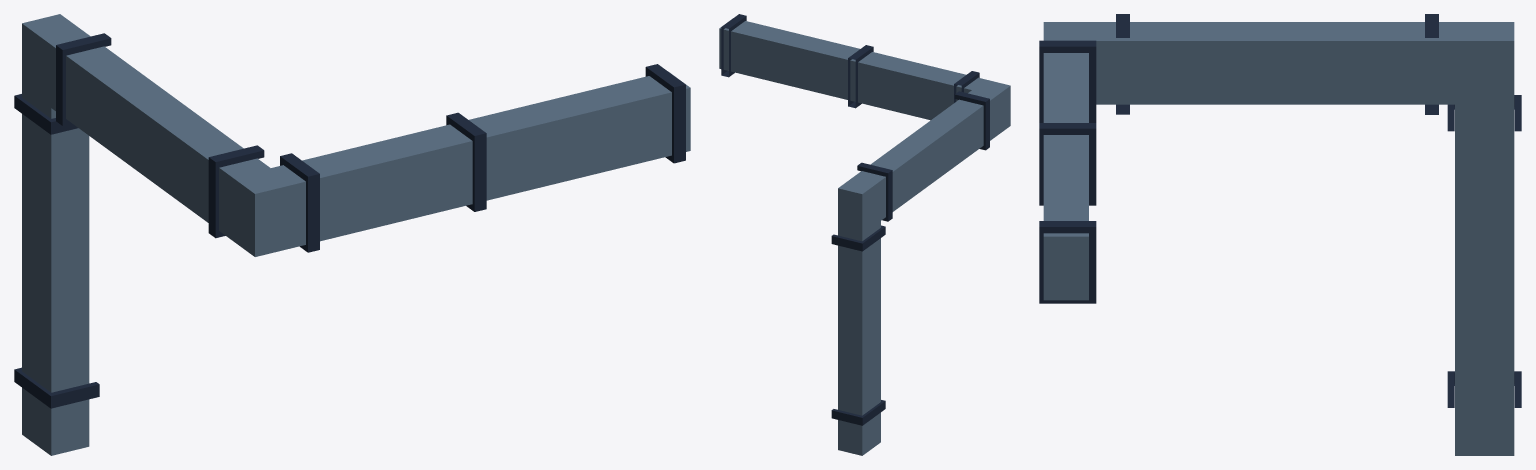
The model's file is Blockout_Prop_Vent_02.FBX.
3 renders of one model, left to right at view 1: azimuth 30°, elevation 25°; view 2: azimuth 150°, elevation 25°; view 3: azimuth 270°, elevation 25°, orthographic. The views are drawn at different scales.
Parts seen in each view (by area): view 1: Blockout_Prop_Vent_02; view 2: Blockout_Prop_Vent_02; view 3: Blockout_Prop_Vent_02.
Boxes of the visible parts, x1,y1,x2,y2 form: Blockout_Prop_Vent_02: (14,14,690,455); Blockout_Prop_Vent_02: (719,14,1010,455); Blockout_Prop_Vent_02: (1039,14,1521,455).
Size of the model in its own units: 852 by 774 by 802.
